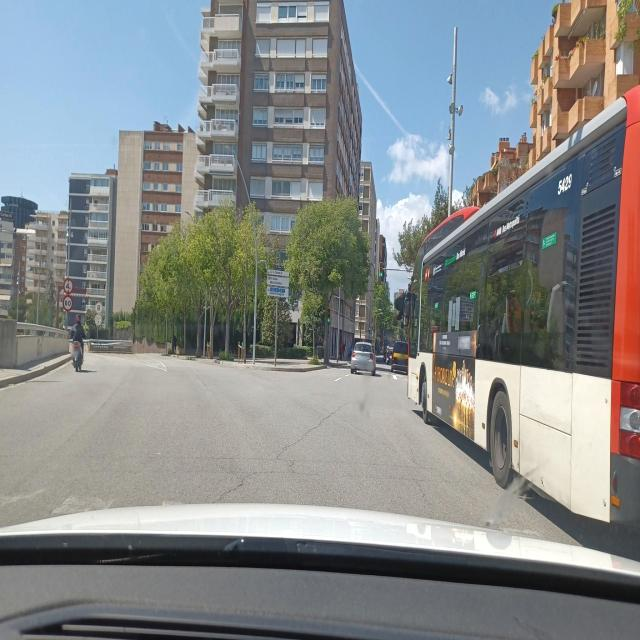car: (350, 340, 377, 376), (390, 340, 409, 374), (375, 349, 386, 365)
